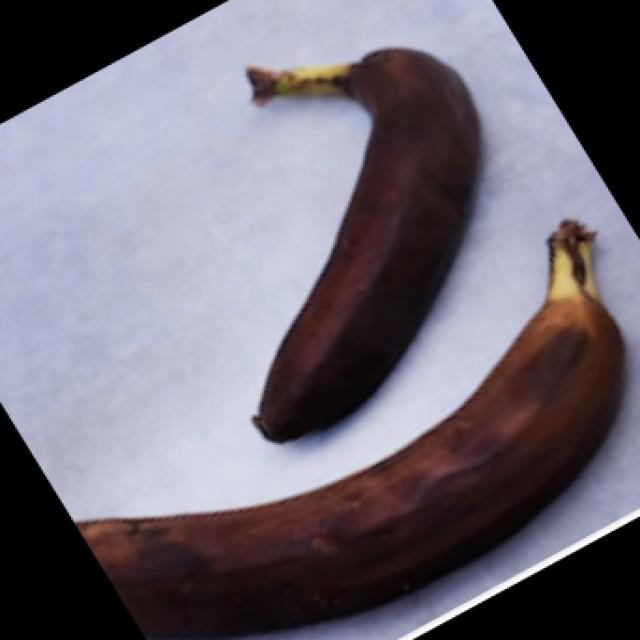Rotten: (0, 209, 640, 638), (179, 12, 491, 450)
